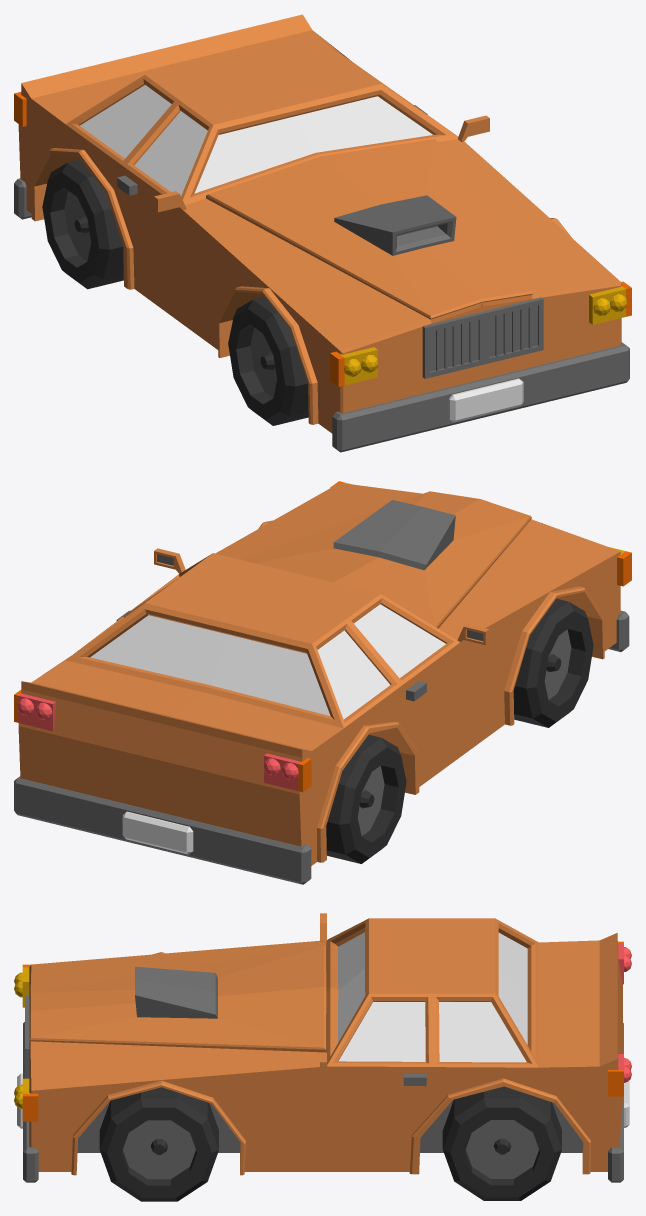
File: Car G.fbx
The picture shows the model from 3 angles, top to bottom: view 1: azimuth 30°, elevation 25°; view 2: azimuth 150°, elevation 25°; view 3: azimuth 270°, elevation 25°; orthographic projection. The views are drawn at different scales.
Parts seen in each view (by area): view 1: Car G; view 2: Car G; view 3: Car G.
Part boxes in pixels (x1=…): Car G: x1=14, y1=14, x2=631, y2=452; Car G: x1=14, y1=481, x2=631, y2=884; Car G: x1=14, y1=913, x2=631, y2=1201.
Size of the model in its own units: 167 by 93.52 by 292.
